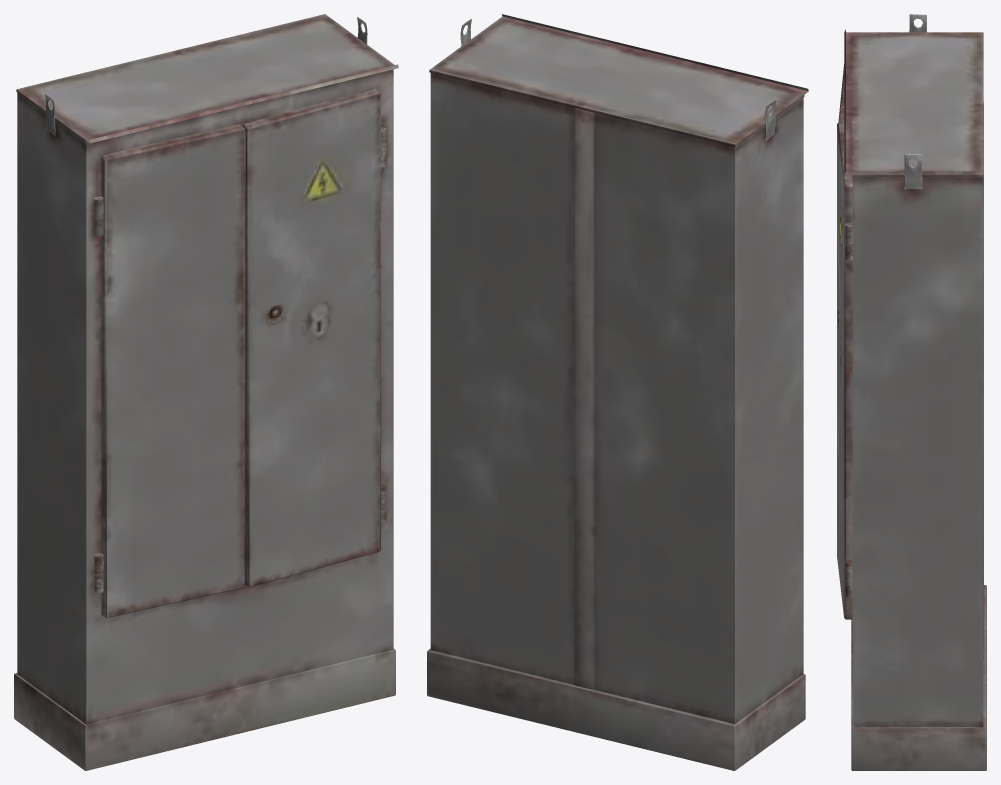
File: street-cabinet.gltf
The picture shows the model from 3 angles, left to right: view 1: azimuth 30°, elevation 25°; view 2: azimuth 150°, elevation 25°; view 3: azimuth 270°, elevation 25°; orthographic projection. The views are drawn at different scales.
Parts seen in each view (by area): view 1: Sketchfab_model; view 2: Sketchfab_model; view 3: Sketchfab_model.
Part boxes in pixels (<box>): Sketchfab_model: <box>14,14,398,770</box>; Sketchfab_model: <box>427,14,808,770</box>; Sketchfab_model: <box>837,14,986,770</box>.
Size of the model in its own units: 0.9896 by 1.97 by 0.4345.
Materials: 4 (4 with a texture image).
